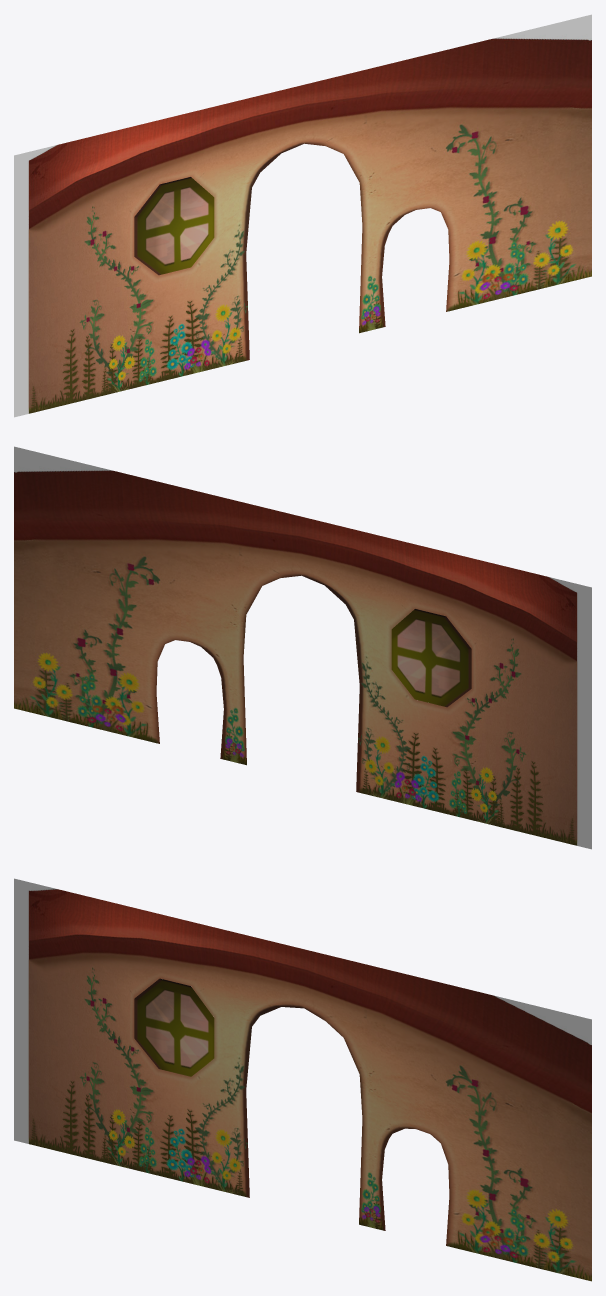
The model's file is outsidehouse.dae.
The picture shows the model from 3 angles, top to bottom: view 1: azimuth 30°, elevation 25°; view 2: azimuth 150°, elevation 25°; view 3: azimuth 330°, elevation 25°; orthographic projection.
Parts seen in each view (by area): view 1: Wall, Window; view 2: Wall, Window; view 3: Wall, Window.
Boxes of the visible parts, box(x1,y1,x2,y2) form: Wall: box(14, 14, 591, 417); Window: box(134, 177, 214, 275); Wall: box(14, 446, 591, 849); Window: box(391, 609, 471, 707); Wall: box(14, 878, 591, 1281); Window: box(134, 978, 214, 1076).
Bounding box in the file's own units: 32.68 × 14.16 × 0.000522.
2 materials, 2 textured.
